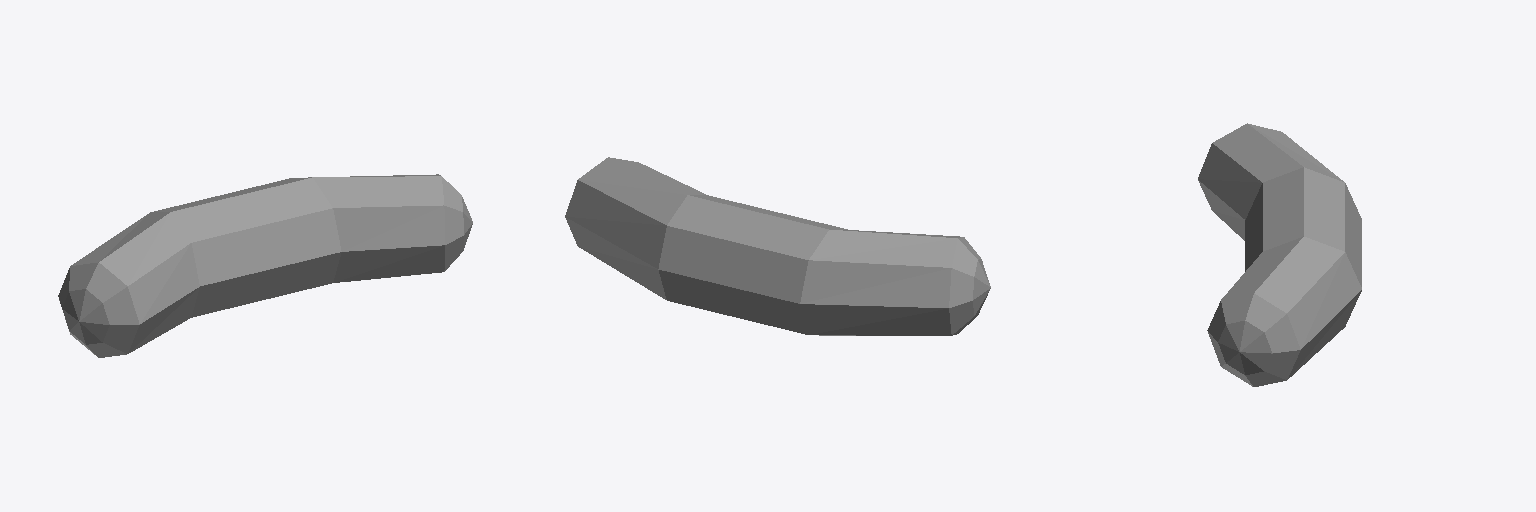
The model's file is Sausage.obj.
The picture shows the model from 3 angles: view 1: azimuth 30°, elevation 25°; view 2: azimuth 150°, elevation 25°; view 3: azimuth 270°, elevation 25°; orthographic projection.
Visible parts, largest first — view 1: Sausage_Cylinder.006; view 2: Sausage_Cylinder.006; view 3: Sausage_Cylinder.006.
Part boxes in pixels (bbox=[...]): Sausage_Cylinder.006: bbox=[58, 174, 472, 357]; Sausage_Cylinder.006: bbox=[565, 157, 990, 335]; Sausage_Cylinder.006: bbox=[1198, 123, 1361, 386].
Bounding box in the file's own units: 1.21 × 0.3063 × 0.4314.